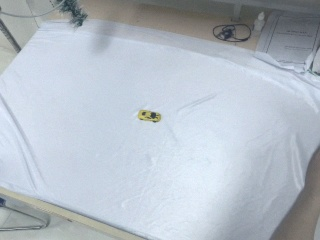toy_car: (136, 109, 163, 123)
